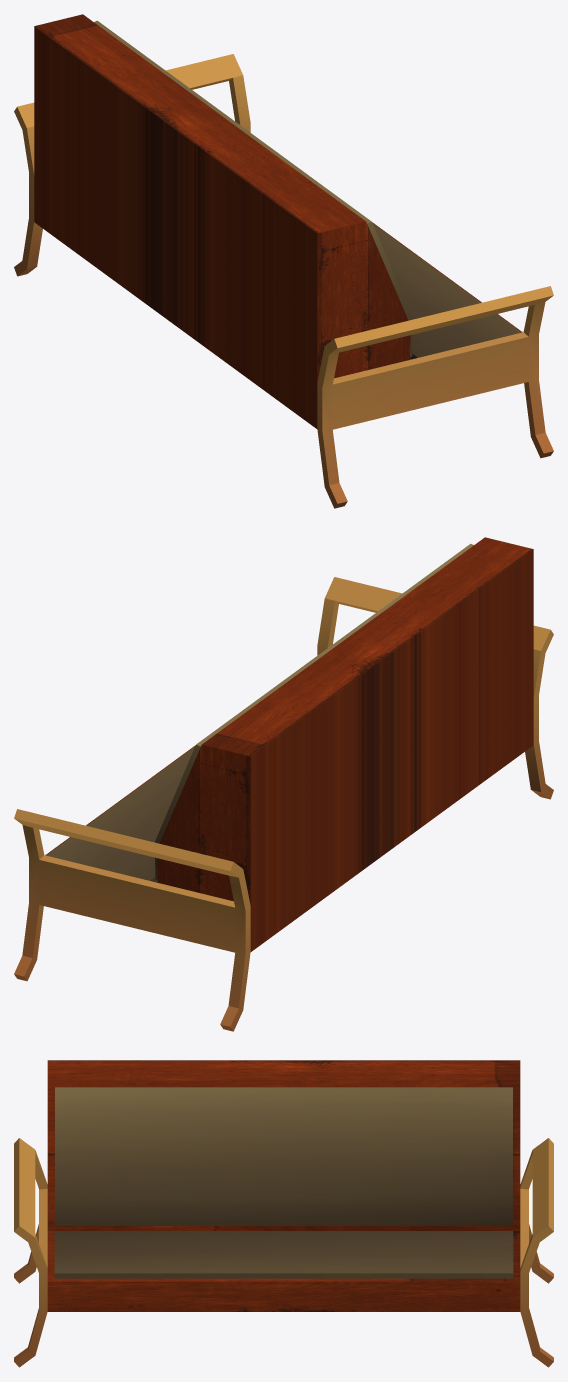
Rendered from ShortCouchBench_1.fbx.
3 views of the same model, one above another, from view 1: azimuth 30°, elevation 25°; view 2: azimuth 150°, elevation 25°; view 3: azimuth 270°, elevation 25° (orthographic). The views are drawn at different scales.
Parts seen in each view (by area): view 1: ShortBenchCouch, LongBenchCouchArms.001; view 2: ShortBenchCouch, LongBenchCouchArms.001; view 3: ShortBenchCouch, LongBenchCouchArms.001.
Part boxes in pixels (box(x1,y1,x2,y2)): ShortBenchCouch: box(34, 14, 522, 428); LongBenchCouchArms.001: box(14, 54, 553, 508); ShortBenchCouch: box(45, 537, 533, 951); LongBenchCouchArms.001: box(14, 577, 553, 1031); ShortBenchCouch: box(47, 1060, 520, 1311); LongBenchCouchArms.001: box(14, 1138, 553, 1367).
Bounding box in the file's own units: 246 × 286 × 638.
